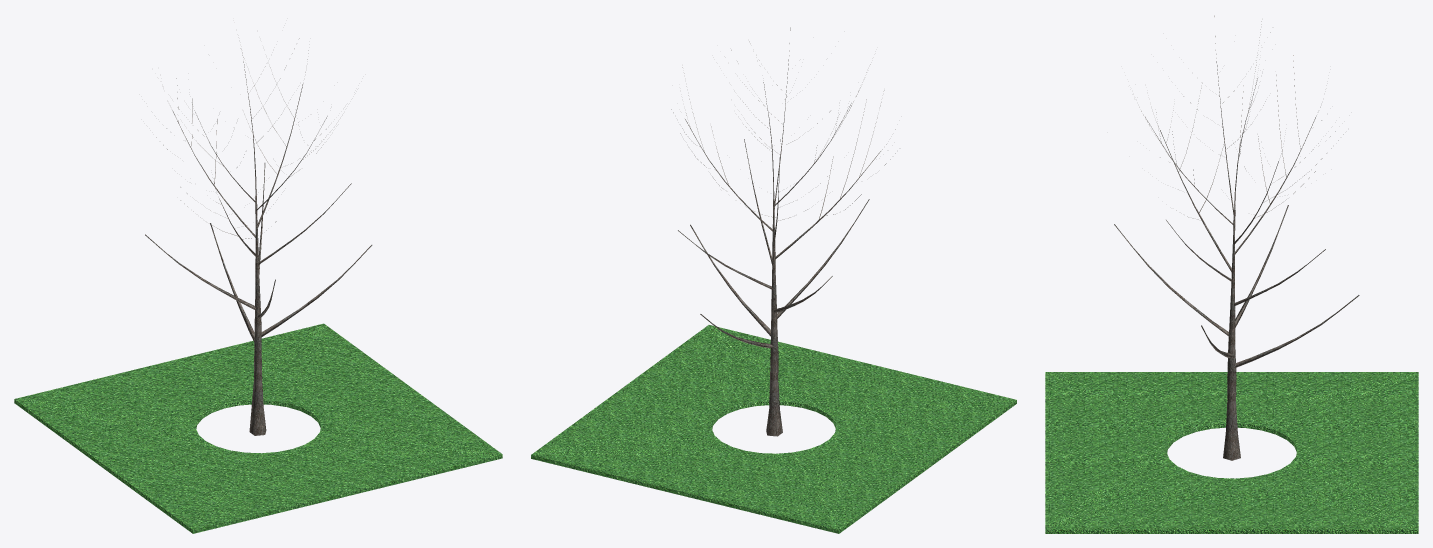
3 views of the same model, side by side, from view 1: azimuth 30°, elevation 25°; view 2: azimuth 150°, elevation 25°; view 3: azimuth 270°, elevation 25° (orthographic). The views are drawn at different scales.
Parts seen in each view (by area): view 1: Material2 (×2); view 2: Material2 (×2); view 3: Material2 (×2).
Part boxes in pixels (<box>): Material2 (×2): <box>14,195,502,533</box>; Material2 (×2): <box>531,199,1016,533</box>; Material2 (×2): <box>1045,209,1418,533</box>.
Bounding box in the file's own units: 240 × 298 × 240.
Materials: 2 (2 with a texture image).
